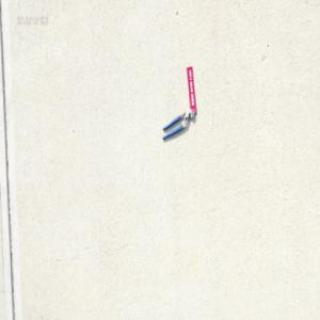LuggageTagtrack_idkeyframe: (184, 66, 195, 116)
Pliertrack_idkeyframe: (160, 109, 192, 142)
